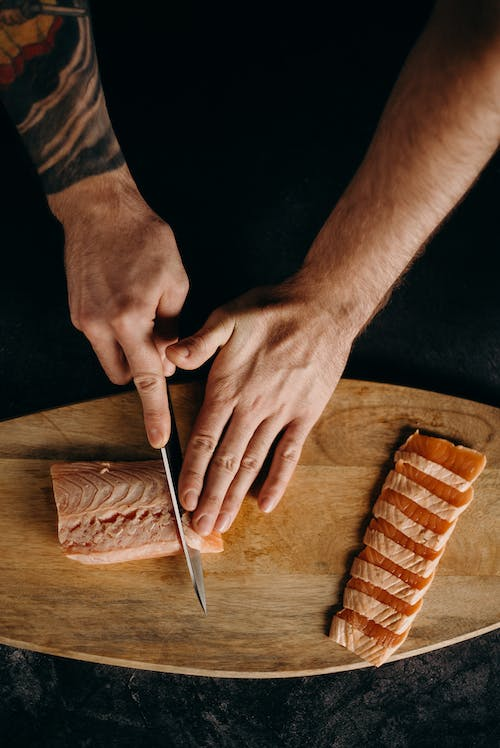knife: (159, 377, 209, 618)
